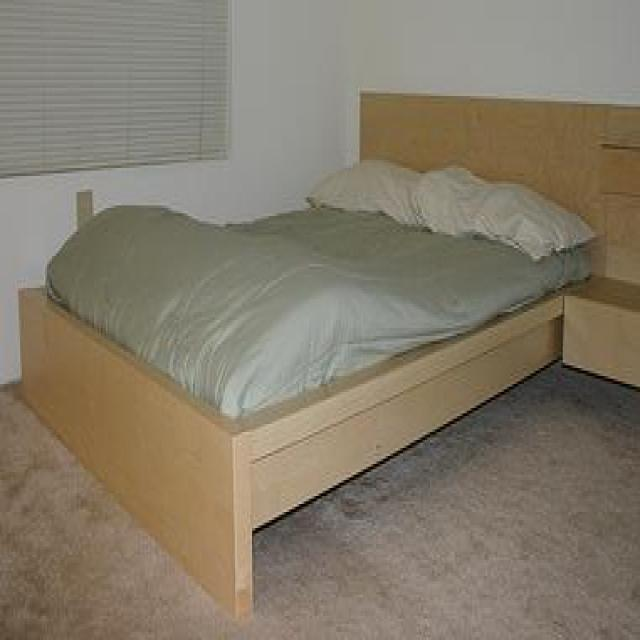bed: (18, 88, 598, 635)
